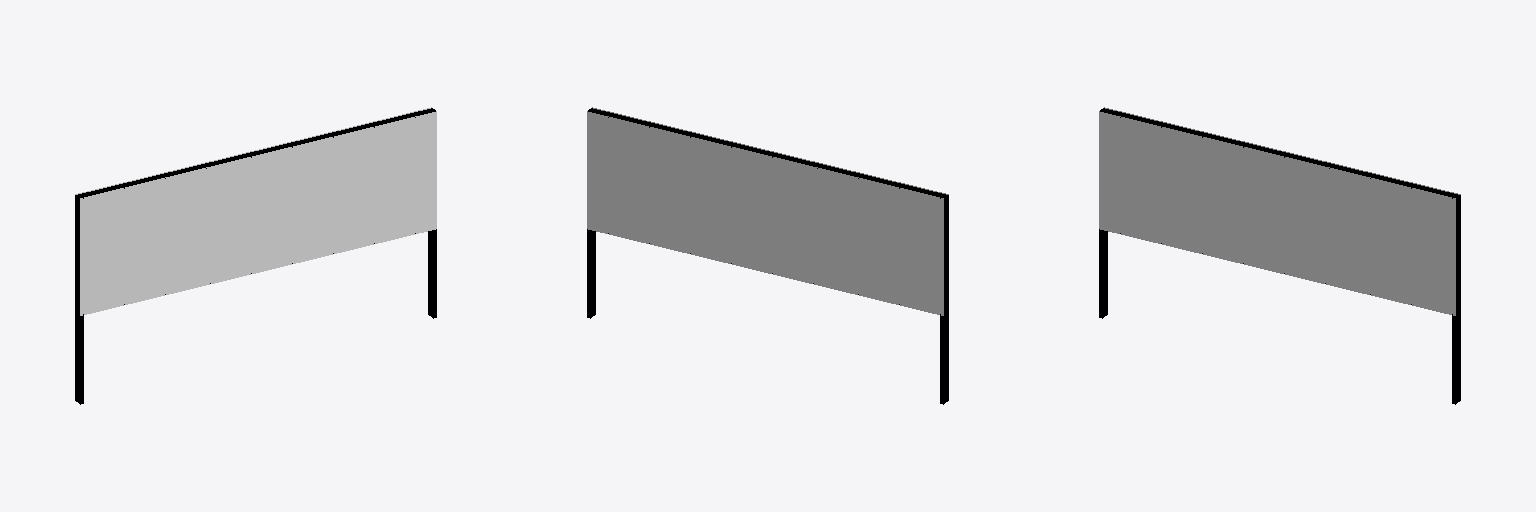
The model's file is Chikurin_.obj.
3 views of the same model, side by side, from view 1: azimuth 30°, elevation 25°; view 2: azimuth 150°, elevation 25°; view 3: azimuth 330°, elevation 25° (orthographic).
Parts seen in each view (by area): view 1: obj1; view 2: obj1; view 3: obj1.
Part boxes in pixels (left/top/right/bottom): obj1: left=75, top=107, right=436, bottom=404; obj1: left=587, top=107, right=948, bottom=404; obj1: left=1099, top=107, right=1460, bottom=404.
Bounding box in the file's own units: 19 × 10.5 × 0.5025.